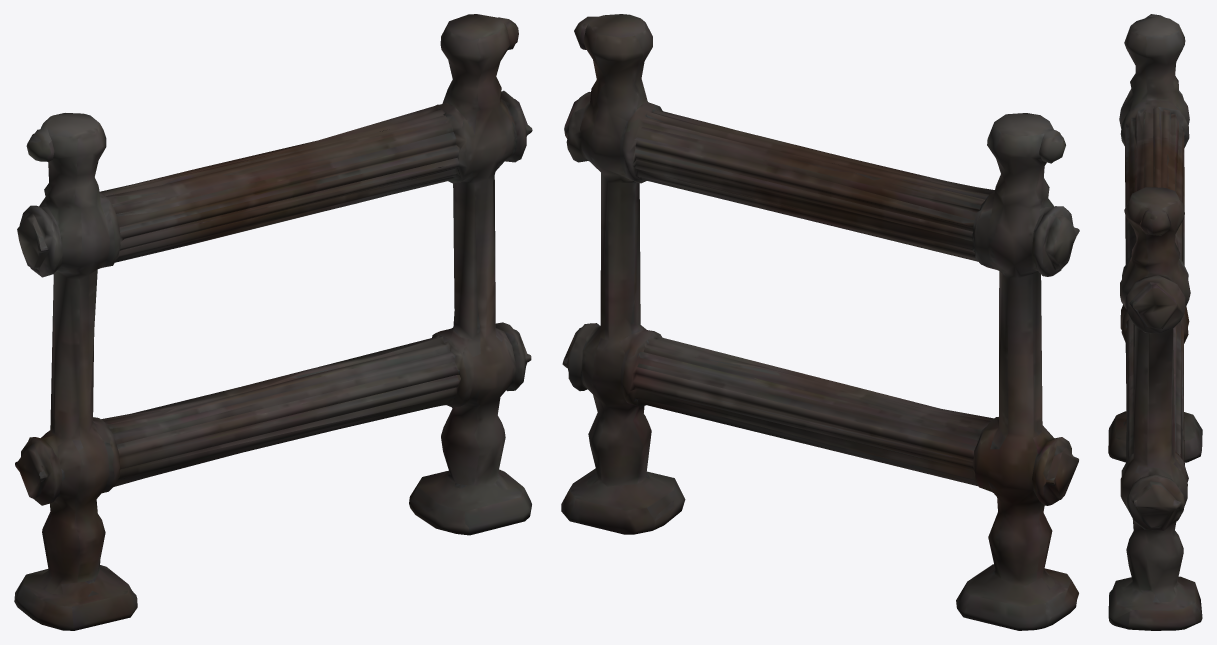
Rendered from weathered-iron-radiator-v001.glb.
The picture shows the model from 3 angles, left to right: view 1: azimuth 30°, elevation 25°; view 2: azimuth 150°, elevation 25°; view 3: azimuth 270°, elevation 25°; orthographic projection. The views are drawn at different scales.
Parts seen in each view (by area): view 1: weathered-iron-radiator; view 2: weathered-iron-radiator; view 3: weathered-iron-radiator.
Part boxes in pixels (box(x1,y1,x2,y2)): weathered-iron-radiator: box(14, 14, 532, 630); weathered-iron-radiator: box(561, 14, 1079, 630); weathered-iron-radiator: box(1108, 14, 1202, 630).
Size of the model in its own units: 0.7518 by 0.709 by 0.1445.
Materials: 1 (1 with a texture image).
